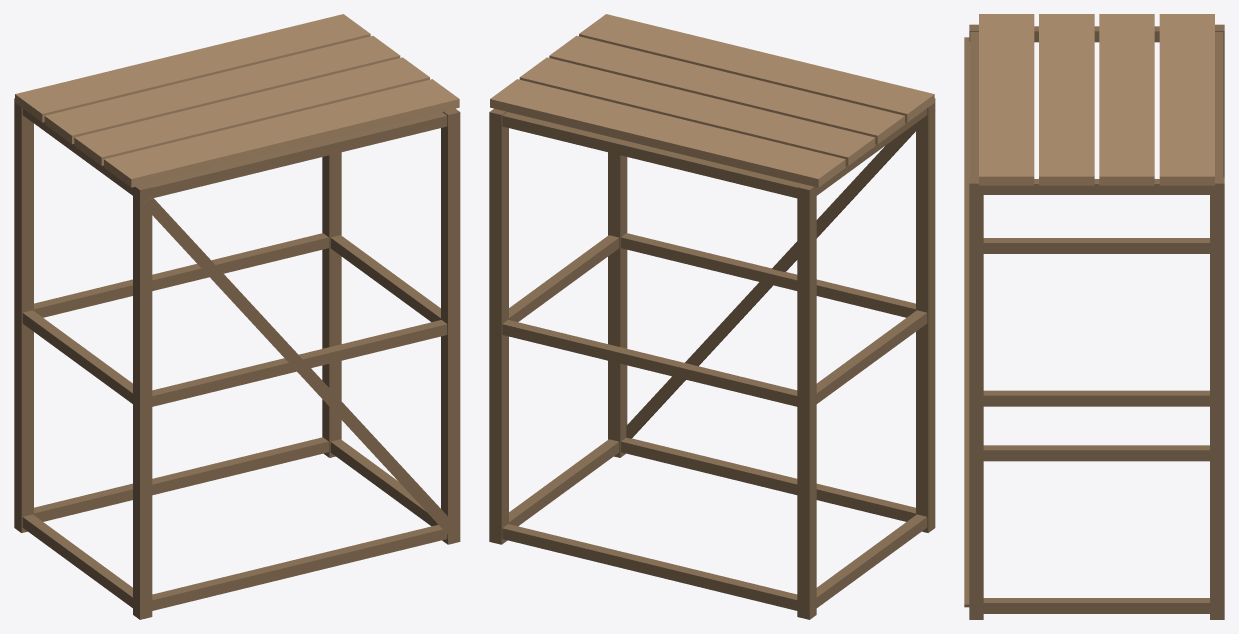
The model's file is prop-scaffold-frame.fbx.
The picture shows the model from 3 angles, left to right: view 1: azimuth 30°, elevation 25°; view 2: azimuth 150°, elevation 25°; view 3: azimuth 270°, elevation 25°; orthographic projection.
Parts seen in each view (by area): view 1: prop-scaffold-frame; view 2: prop-scaffold-frame; view 3: prop-scaffold-frame.
Boxes of the visible parts, x1=… form: prop-scaffold-frame: x1=14, y1=14, x2=460, y2=619; prop-scaffold-frame: x1=489, y1=14, x2=935, y2=619; prop-scaffold-frame: x1=964, y1=14, x2=1224, y2=619.
Size of the model in its own units: 160 by 204 by 108.
